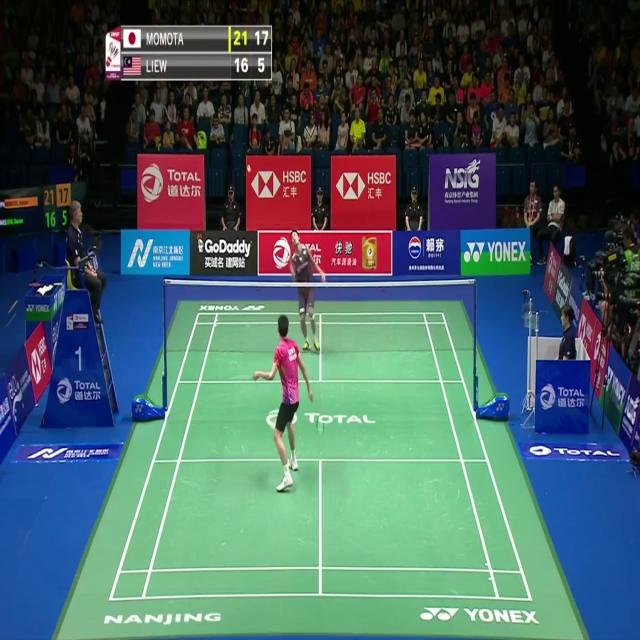Shuttlecock: (245, 162, 251, 174)
